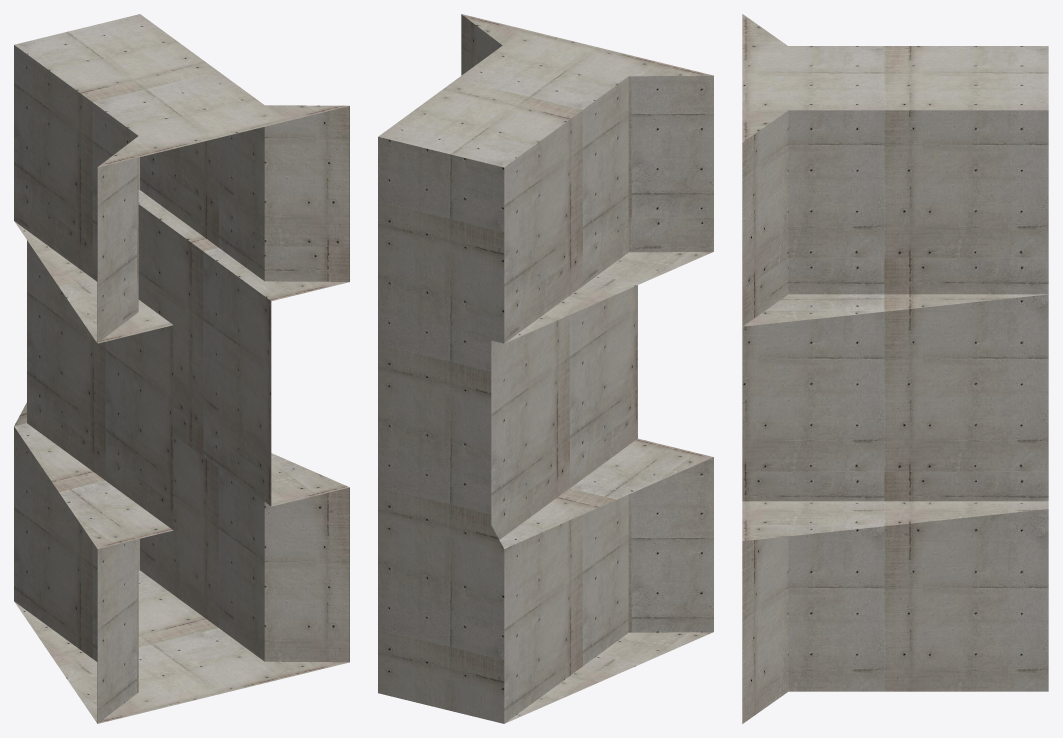
File: pier_column_03.obj
The picture shows the model from 3 angles, left to right: view 1: azimuth 30°, elevation 25°; view 2: azimuth 150°, elevation 25°; view 3: azimuth 270°, elevation 25°; orthographic projection. The views are drawn at different scales.
Visible parts, largest first — view 1: _4; view 2: _4; view 3: _4.
Part boxes in pixels (x1,y1,x2,y2): _4: (14, 14, 349, 723); _4: (378, 14, 713, 723); _4: (742, 14, 1048, 723).
Size of the model in its own units: 2.21 by 4.65 by 2.22.
Materials: 1 (1 with a texture image).
